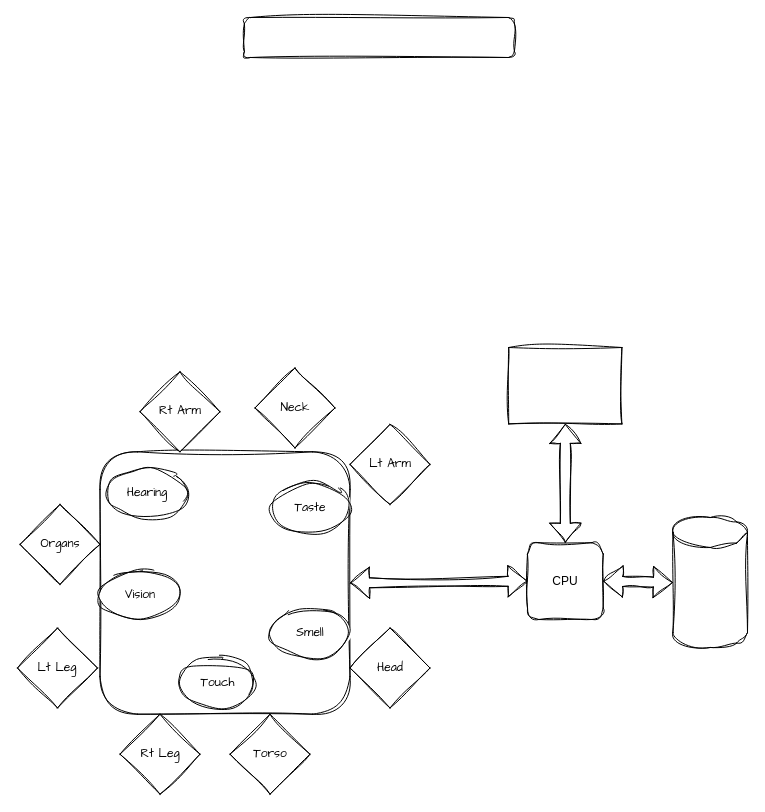
This 765x812 diagram has some shape labels left out. The shapes that lost their labels are listed below. From the top down, each one's box as (x1, y1, x2, y2) in pixels, then its label:
(243, 16, 514, 58): Von Neumann Machine
(508, 346, 622, 424): Memory
(99, 451, 350, 714): I/O
(672, 516, 748, 648): Long term memory
